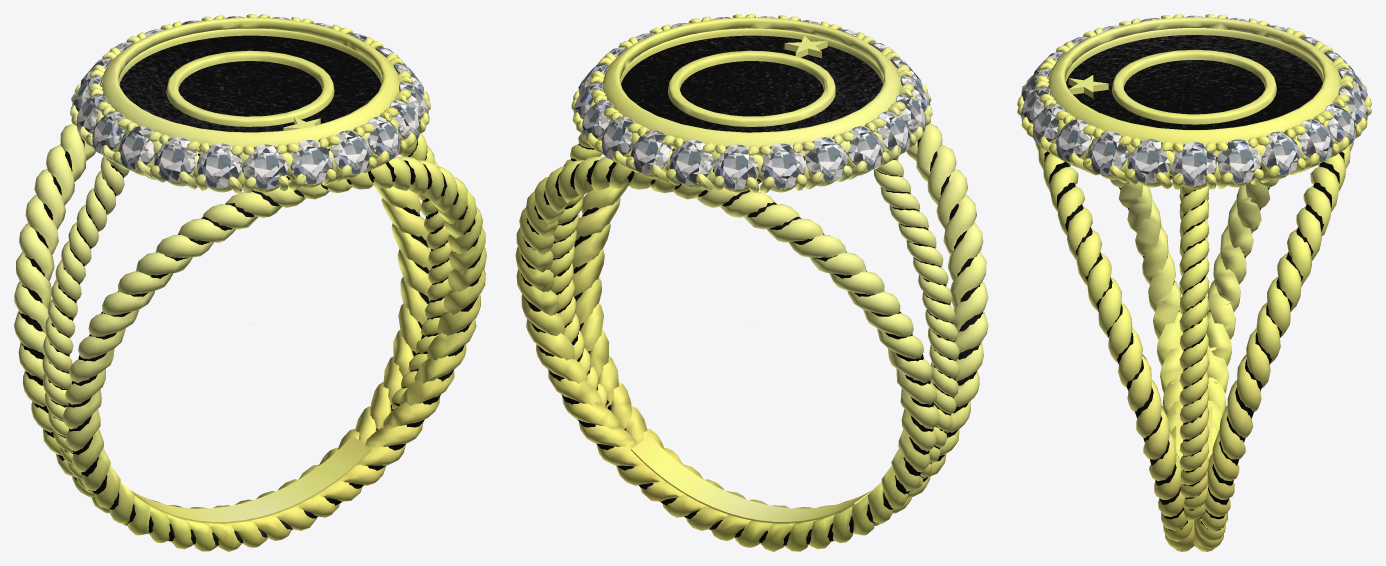
File: ring17.glb
The picture shows the model from 3 angles, left to right: view 1: azimuth 30°, elevation 25°; view 2: azimuth 150°, elevation 25°; view 3: azimuth 270°, elevation 25°; orthographic projection.
Parts seen in each view (by area): view 1: body, black, diamond; view 2: body, black, diamond; view 3: body, black, diamond.
Part boxes in pixels (x1,y1,x2,y2): body: [14, 14, 486, 551]; black: [19, 35, 481, 545]; diamond: [72, 16, 428, 189]; body: [515, 14, 988, 551]; black: [520, 35, 983, 545]; diamond: [573, 16, 930, 189]; body: [1017, 14, 1371, 551]; black: [1044, 35, 1344, 530]; diamond: [1021, 15, 1367, 185].
Bounding box in the file's own units: 20.89 × 22.55 × 15.85.
Materials: 4 (4 with a texture image).
